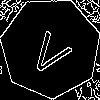V: (25, 23, 79, 80)
